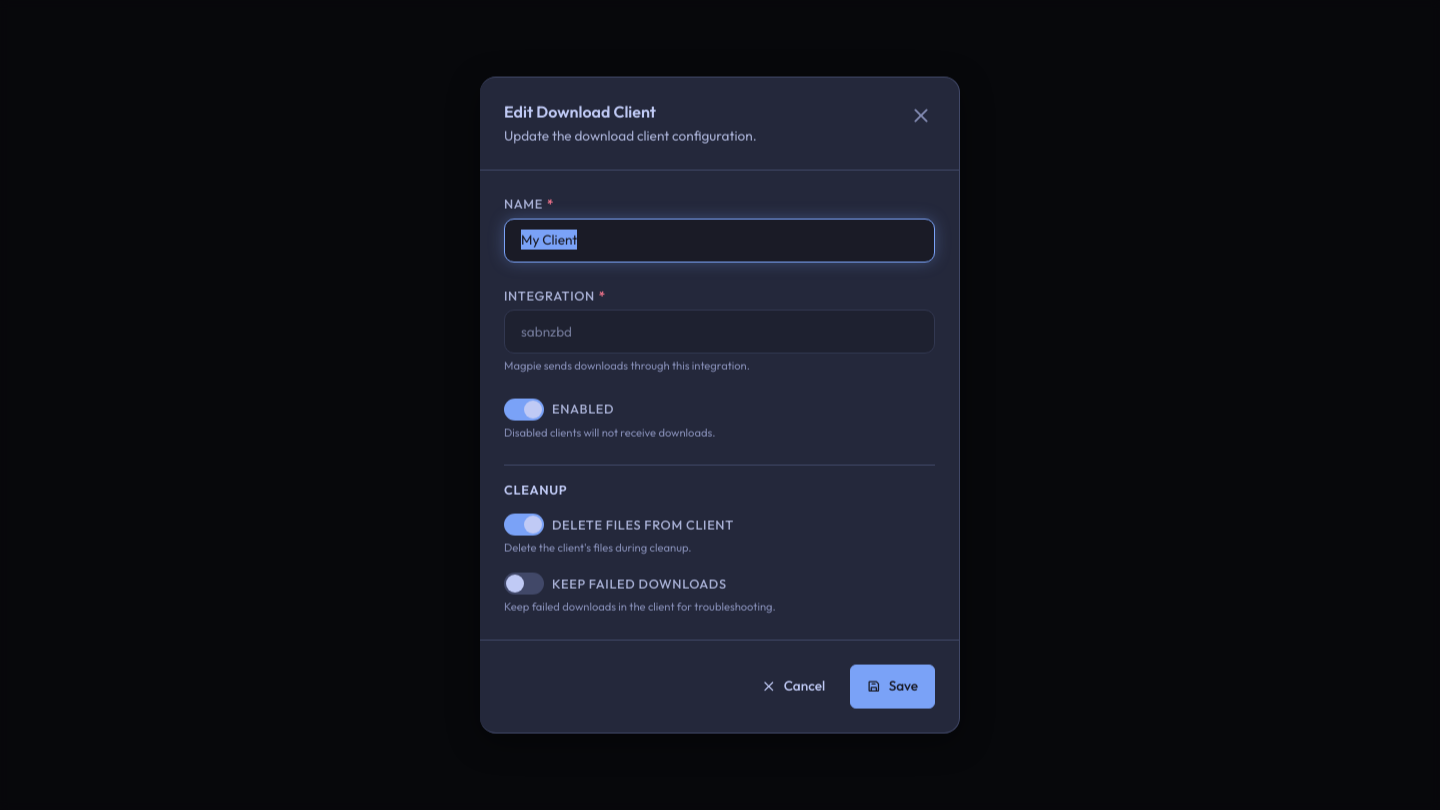
Test case: DownloadClientForm › marks the form dirty after editing a scalar field
The width and height of the screenshot is (1440, 810).
Type "!" into the field showing "My Client" at [720, 240], box [505, 222, 934, 258]
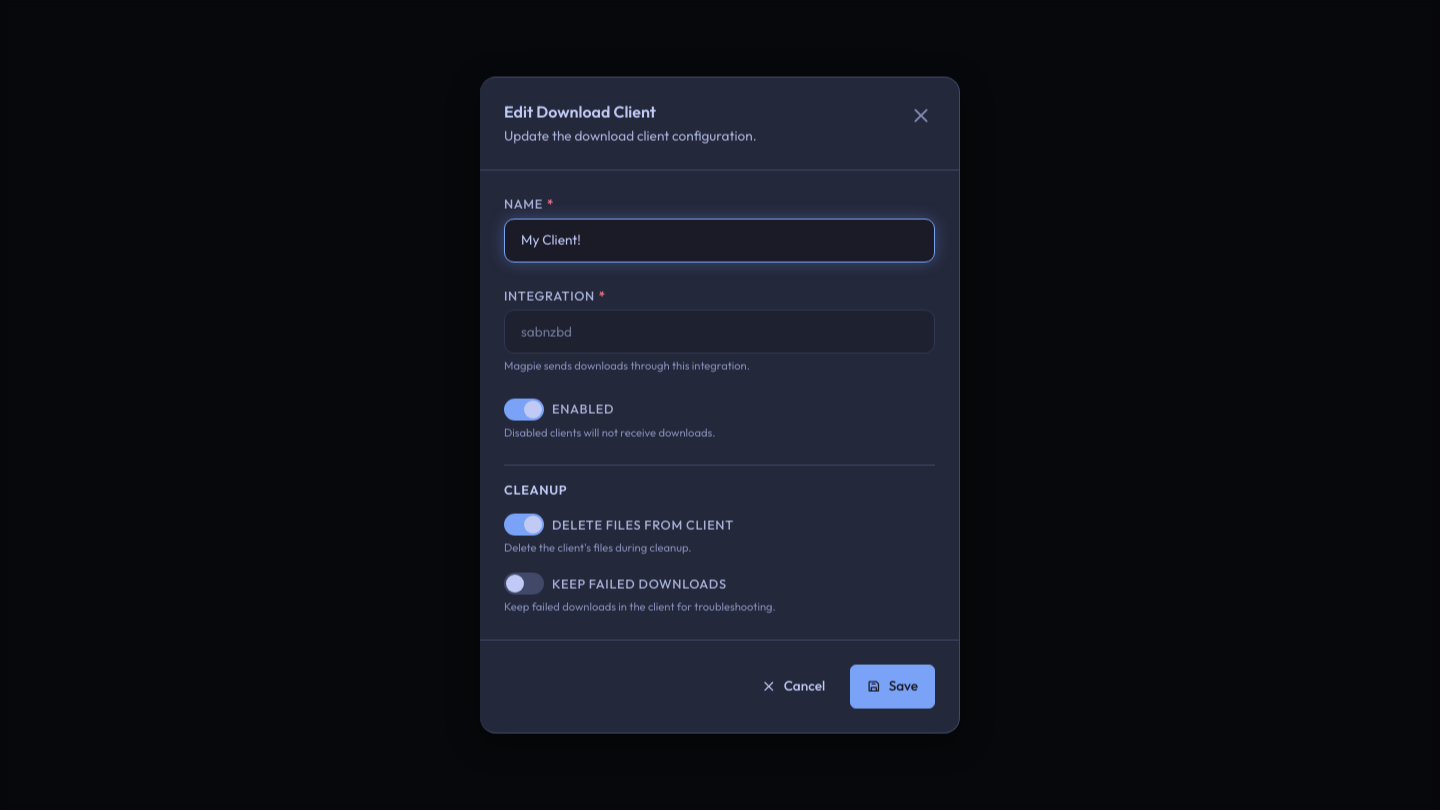
Click the button "Cancel" at [794, 686], box [745, 664, 842, 708]
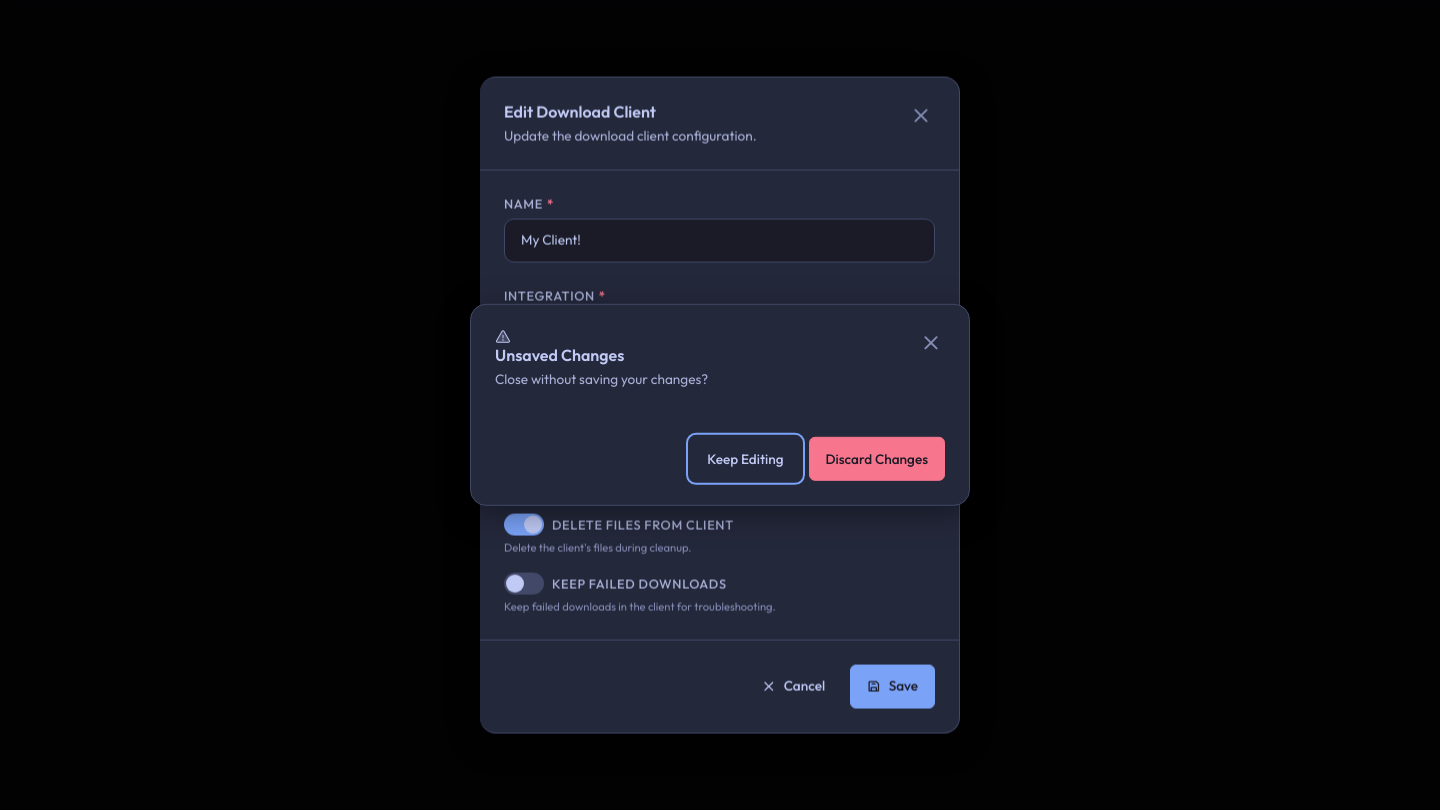
Now the heading "Unsaved Changes" is shown, box [495, 329, 624, 365]
